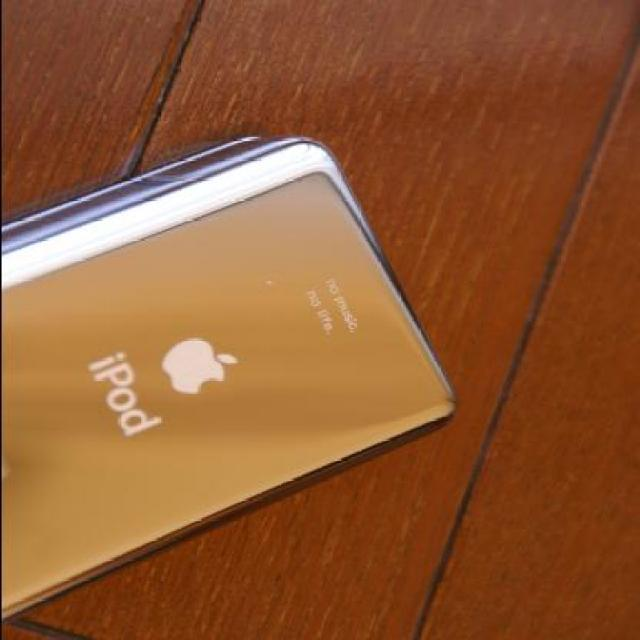phone: (1, 127, 459, 625)
